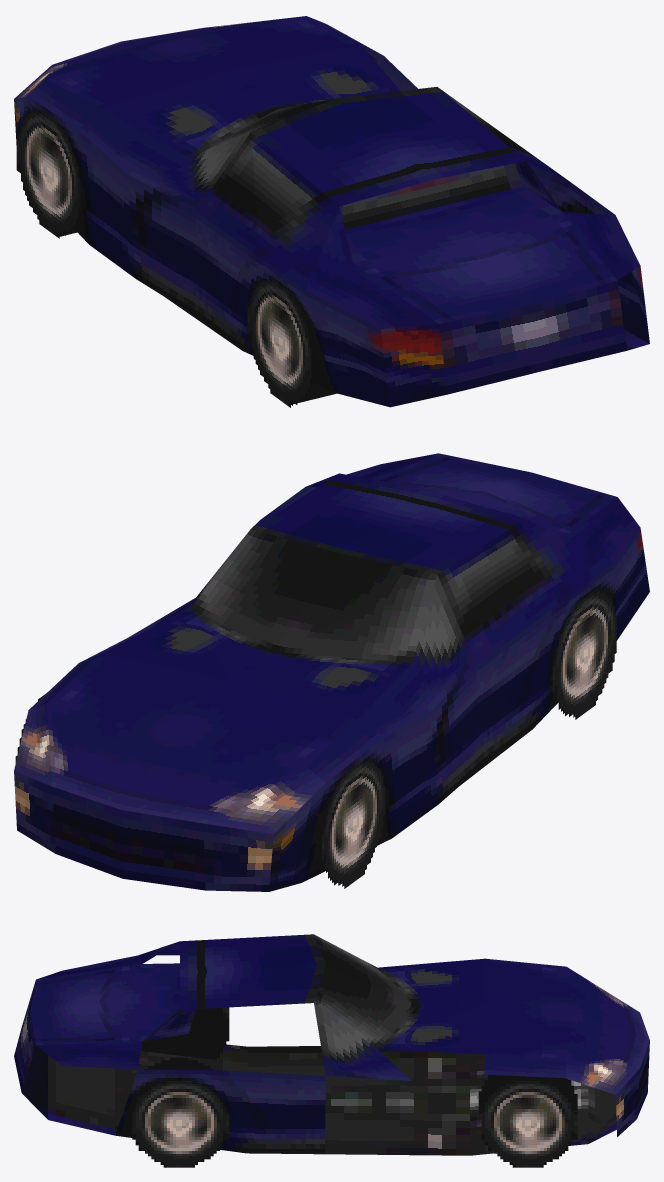
The model's file is car-dviper.glb.
3 renders of one model, top to bottom at view 1: azimuth 30°, elevation 25°; view 2: azimuth 150°, elevation 25°; view 3: azimuth 270°, elevation 25°, orthographic. The views are drawn at different scales.
Visible parts, largest first — view 1: car-dviper; view 2: car-dviper; view 3: car-dviper.
Part boxes in pixels (left/top/right/bottom): car-dviper: left=14, top=16, right=649, bottom=407; car-dviper: left=14, top=453, right=649, bottom=891; car-dviper: left=14, top=934, right=649, bottom=1167.
Bounding box in the file's own units: 1.92 × 1.15 × 4.52.
Materials: 37 (37 with a texture image).
